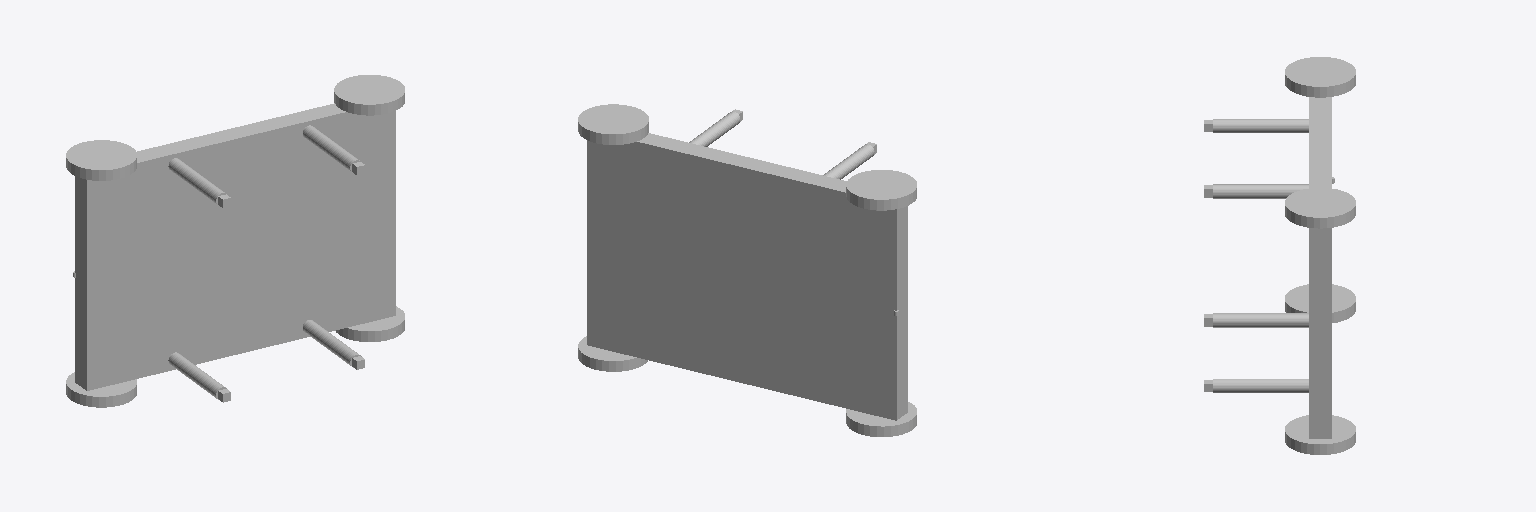
Rendered from cardesign3.obj.
3 views of the same model, side by side, from view 1: azimuth 30°, elevation 25°; view 2: azimuth 150°, elevation 25°; view 3: azimuth 270°, elevation 25° (orthographic).
Visible parts, largest first — view 1: Cube, Cylinder, Cylinder.002, Cylinder.001, Cylinder.003, Cylinder.005, Cylinder.004, Cylinder.006, Cylinder.007; view 2: Cube, Cylinder, Cylinder.002, Cylinder.001, Cylinder.003, Cylinder.004, Cylinder.006; view 3: Cube, Cylinder, Cylinder.002, Cylinder.003, Cylinder.005, Cylinder.001, Cylinder.004, Cylinder.007, Cylinder.006.
Boxes of the visible parts, <box> form: Cube: <box>75,103,395,390</box>; Cylinder: <box>66,140,136,180</box>; Cylinder.002: <box>334,75,404,115</box>; Cylinder.001: <box>66,372,136,407</box>; Cylinder.003: <box>336,306,404,341</box>; Cylinder.005: <box>168,352,226,399</box>; Cylinder.004: <box>168,158,225,205</box>; Cylinder.006: <box>303,125,360,172</box>; Cylinder.007: <box>303,320,361,367</box>; Cube: <box>587,133,907,420</box>; Cylinder: <box>846,170,916,210</box>; Cylinder.002: <box>578,104,648,144</box>; Cylinder.001: <box>846,402,916,436</box>; Cylinder.003: <box>578,336,647,371</box>; Cylinder.004: <box>823,144,874,179</box>; Cylinder.006: <box>689,111,739,146</box>; Cube: <box>1309,97,1331,438</box>; Cylinder: <box>1285,57,1355,97</box>; Cylinder.002: <box>1285,188,1355,228</box>; Cylinder.003: <box>1285,415,1355,454</box>; Cylinder.005: <box>1213,313,1308,327</box>; Cylinder.001: <box>1285,284,1355,322</box>; Cylinder.004: <box>1213,119,1308,132</box>; Cylinder.007: <box>1213,379,1308,392</box>; Cylinder.006: <box>1213,184,1308,198</box>.
Size of the model in its own units: 160 by 110 by 64.